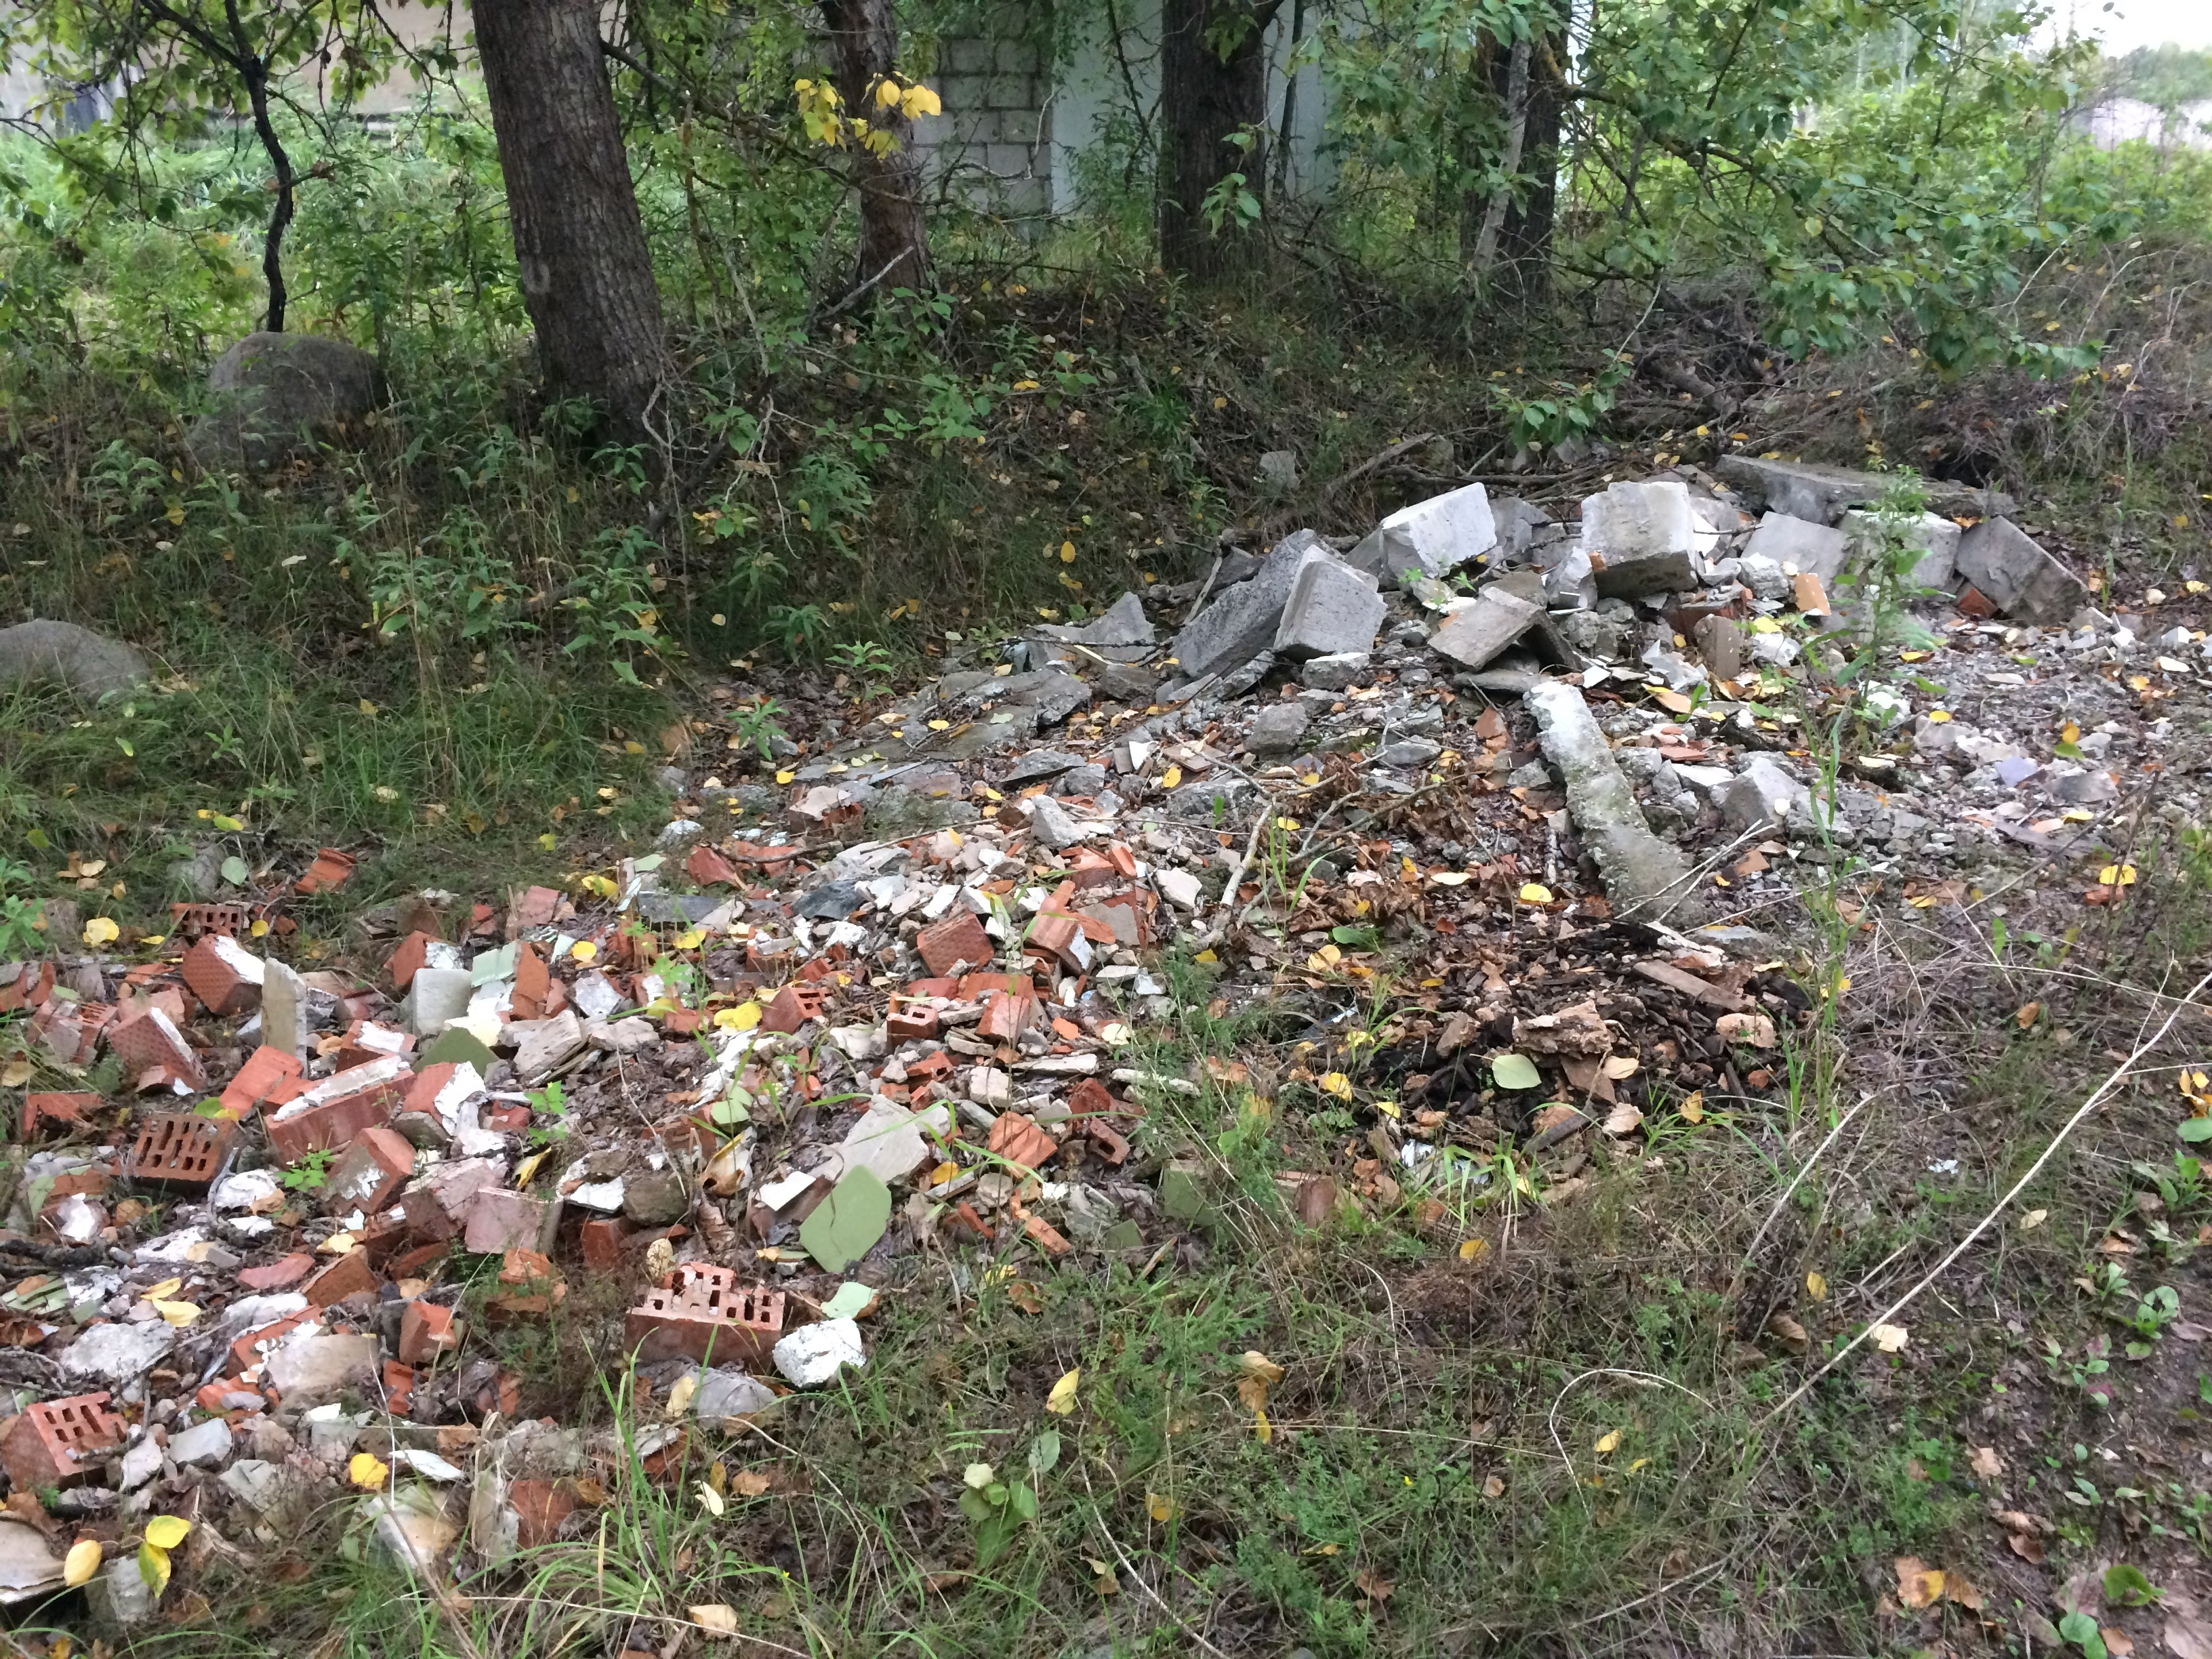trash: (31, 446, 2170, 1603)
